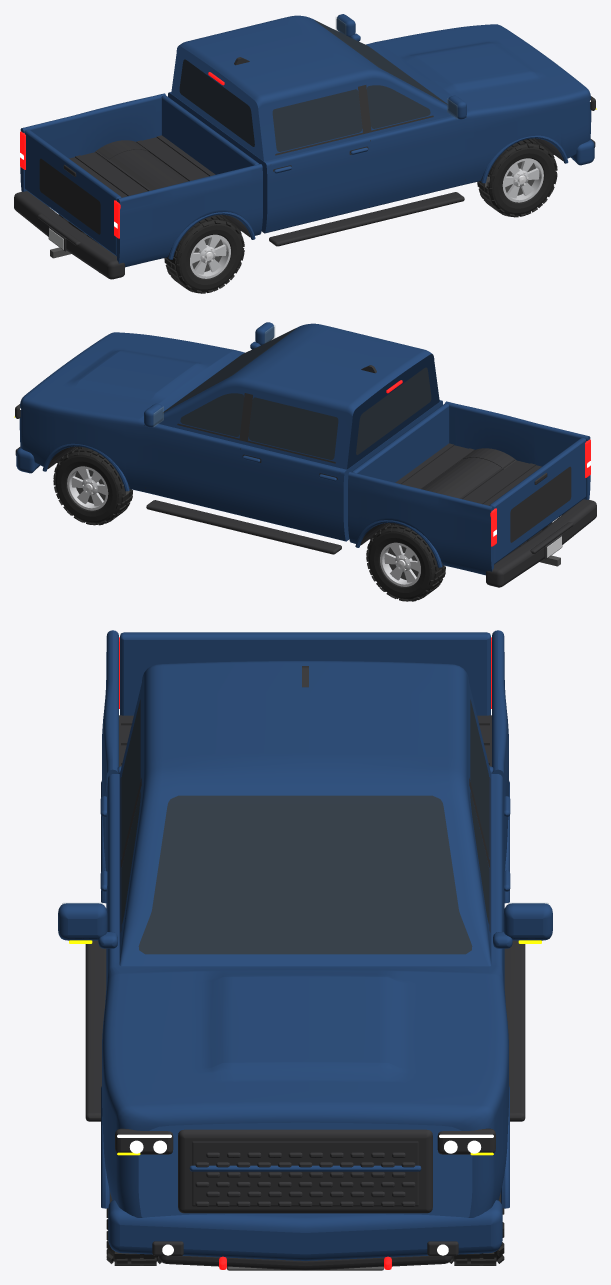
Rendered from pickup_truck.glb.
The picture shows the model from 3 angles, top to bottom: view 1: azimuth 30°, elevation 25°; view 2: azimuth 150°, elevation 25°; view 3: azimuth 270°, elevation 25°; orthographic projection. The views are drawn at different scales.
Parts seen in each view (by area): view 1: body, bed, cab_glass, tailgate_tilt, wheel_rear_right_spin, wheel_front_right_spin, rear_bumper, front_fascia; view 2: body, bed, cab_glass, tailgate_tilt, wheel_rear_left_spin, wheel_front_left_spin, rear_bumper, front_fascia; view 3: body, cab_glass, front_fascia, tailgate_tilt, bed.
Boxes of the visible parts, left/top/right/bottom form: body: left=109, top=14, right=591, bottom=259; bed: left=20, top=93, right=262, bottom=267; cab_glass: left=179, top=20, right=447, bottom=151; tailgate_tilt: left=24, top=129, right=121, bottom=256; wheel_rear_right_spin: left=164, top=215, right=244, bottom=293; wheel_front_right_spin: left=477, top=138, right=557, bottom=217; rear_bumper: left=14, top=131, right=124, bottom=279; front_fascia: left=571, top=95, right=596, bottom=165; body: left=19, top=322, right=501, bottom=567; bed: left=348, top=401, right=590, bottom=575; cab_glass: left=163, top=328, right=431, bottom=459; tailgate_tilt: left=489, top=437, right=586, bottom=564; wheel_rear_left_spin: left=366, top=523, right=445, bottom=601; wheel_front_left_spin: left=53, top=446, right=132, bottom=525; rear_bumper: left=486, top=439, right=596, bottom=587; front_fascia: left=14, top=403, right=39, bottom=473; body: left=58, top=661, right=552, bottom=1217; cab_glass: left=121, top=699, right=489, bottom=954; front_fascia: left=108, top=1128, right=502, bottom=1270; tailgate_tilt: left=120, top=632, right=490, bottom=715; bed: left=102, top=630, right=508, bottom=867.
Bounding box in the file's own units: 5.96 × 2.03 × 2.52.
14 materials, 14 textured.
